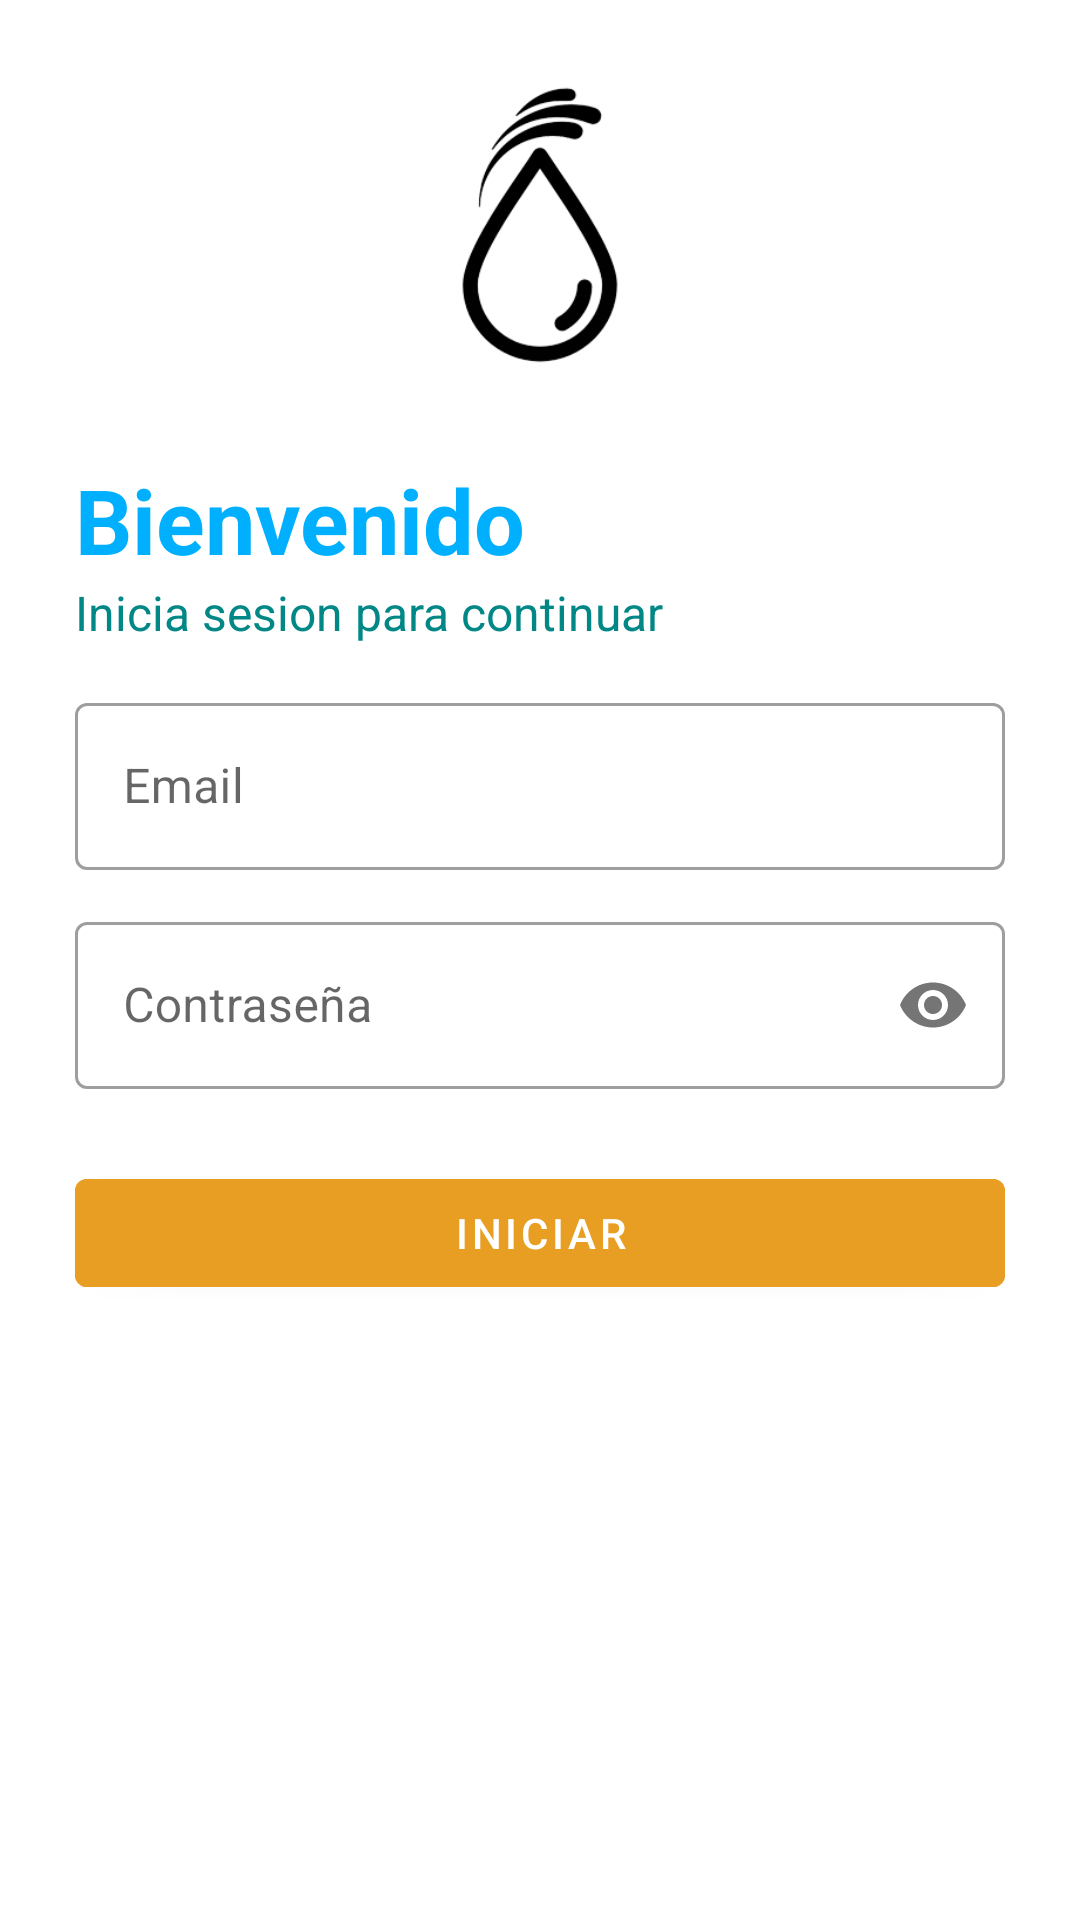

Screen size 1080px×1920px. Icon name, then its center in pixels as (x=x, y=y):
hidroblas: (x=540, y=225)
